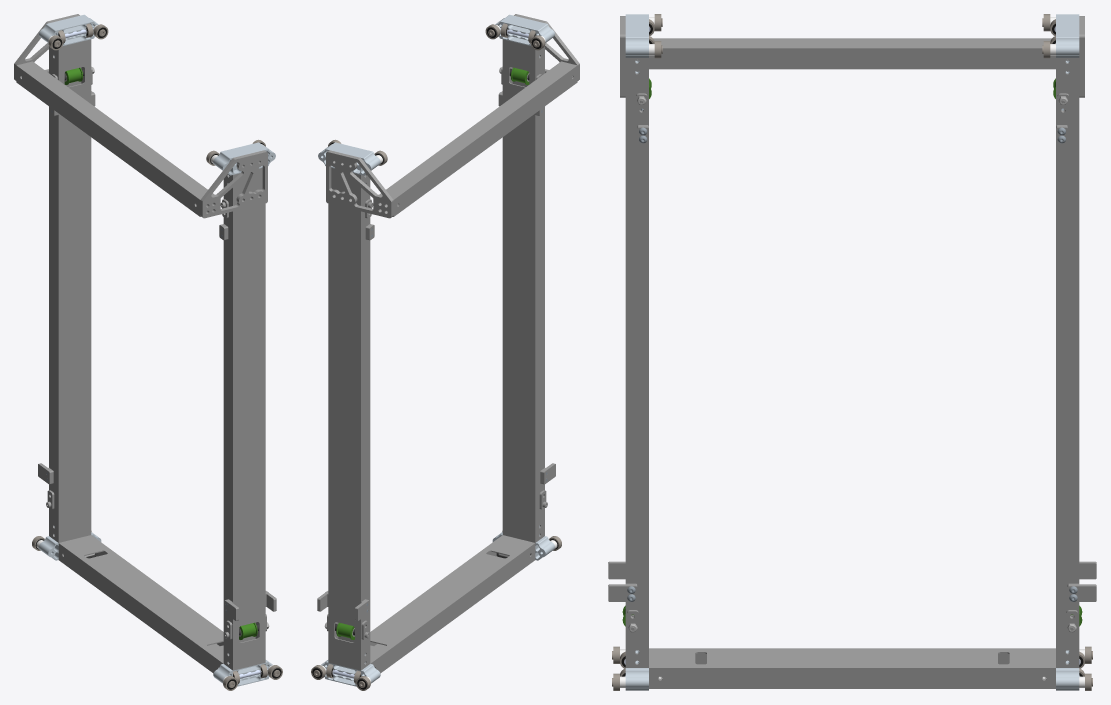
The model's file is Alpha 2025 Stage 2.glb.
The picture shows the model from 3 angles, left to right: view 1: azimuth 30°, elevation 25°; view 2: azimuth 150°, elevation 25°; view 3: azimuth 270°, elevation 25°; orthographic projection. The views are drawn at different scales.
Parts seen in each view (by area): view 1: Tube 2"x1"x29" (×2), Tube 2"x1"x17.5", Tube 1"x1"x19.5", WCP-0199-001 Rev2 (×3), Part 33, Part 35; view 2: Tube 2"x1"x29" (×2), Tube 2"x1"x17.5", Tube 1"x1"x19.5", WCP-0199-001 Rev2 (×3), Part 35, Part 33; view 3: Tube 2"x1"x29" (×2), Tube 2"x1"x17.5", Tube 1"x1"x19.5", WCP-0199-001 Rev2 (×2).
Part boxes in pixels (x1=…): Tube 2"x1"x29" (×2): x1=49, y1=39, x2=265, y2=670; Tube 2"x1"x17.5": x1=58, y1=535, x2=223, y2=673; Tube 1"x1"x19.5": x1=16, y1=61, x2=214, y2=216; WCP-0199-001 Rev2 (×3): x1=39, y1=14, x2=275, y2=686; Part 33: x1=200, y1=150, x2=267, y2=218; Part 35: x1=14, y1=14, x2=79, y2=80; Tube 2"x1"x29" (×2): x1=328, y1=39, x2=544, y2=670; Tube 2"x1"x17.5": x1=370, y1=535, x2=535, y2=673; Tube 1"x1"x19.5": x1=379, y1=61, x2=577, y2=216; WCP-0199-001 Rev2 (×3): x1=318, y1=14, x2=554, y2=686; Part 35: x1=326, y1=150, x2=393, y2=218; Part 33: x1=514, y1=14, x2=579, y2=80; Tube 2"x1"x29" (×2): x1=625, y1=58, x2=1079, y2=667; Tube 2"x1"x17.5": x1=649, y1=648, x2=1055, y2=688; Tube 1"x1"x19.5": x1=649, y1=38, x2=1055, y2=69; WCP-0199-001 Rev2 (×2): x1=625, y1=14, x2=1079, y2=73.
Size of the model in its own units: 0.1206 by 0.7874 by 0.5334.
